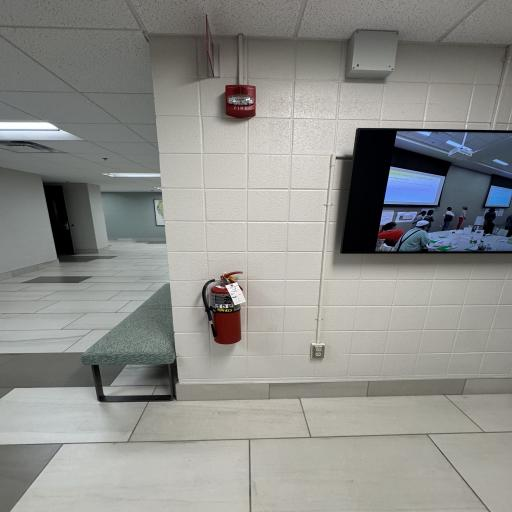bench: (87, 278, 177, 404)
fire alarm signal: (223, 80, 260, 117)
fire extinguisher: (198, 265, 257, 350)
tv monitor: (338, 122, 512, 256)
